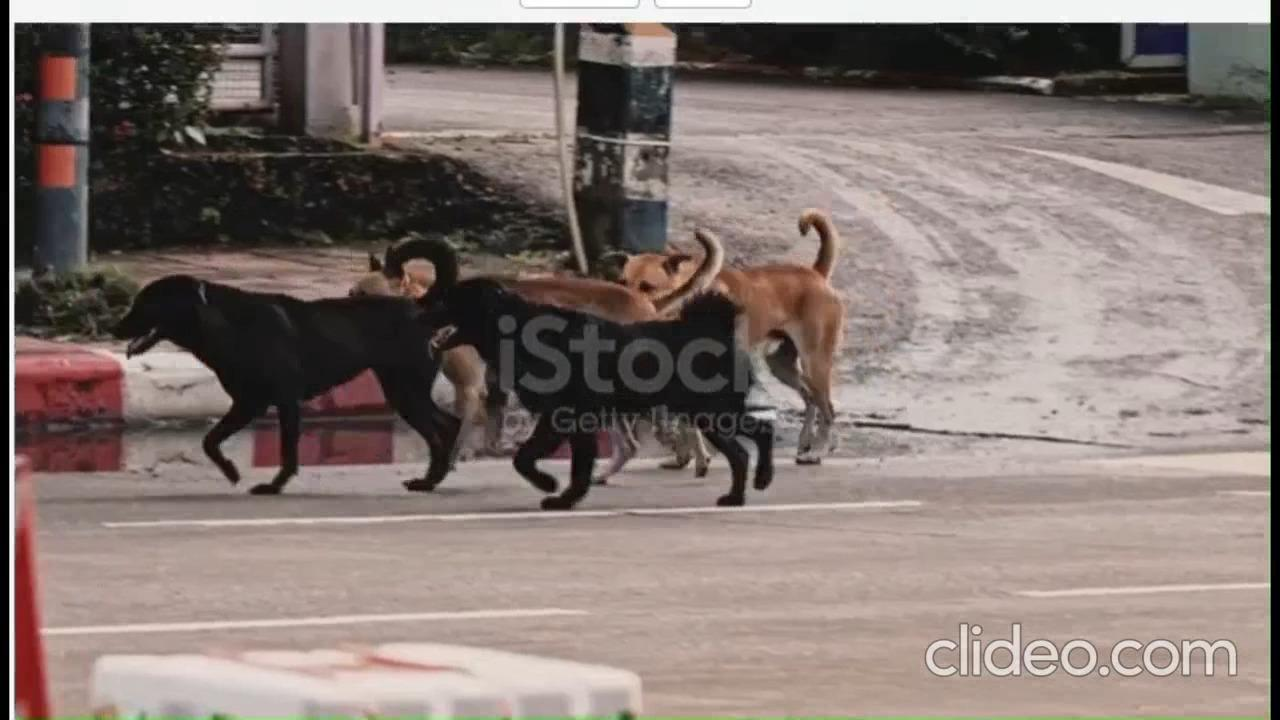dog: (96, 238, 443, 499), (413, 275, 775, 503), (616, 211, 843, 459)
